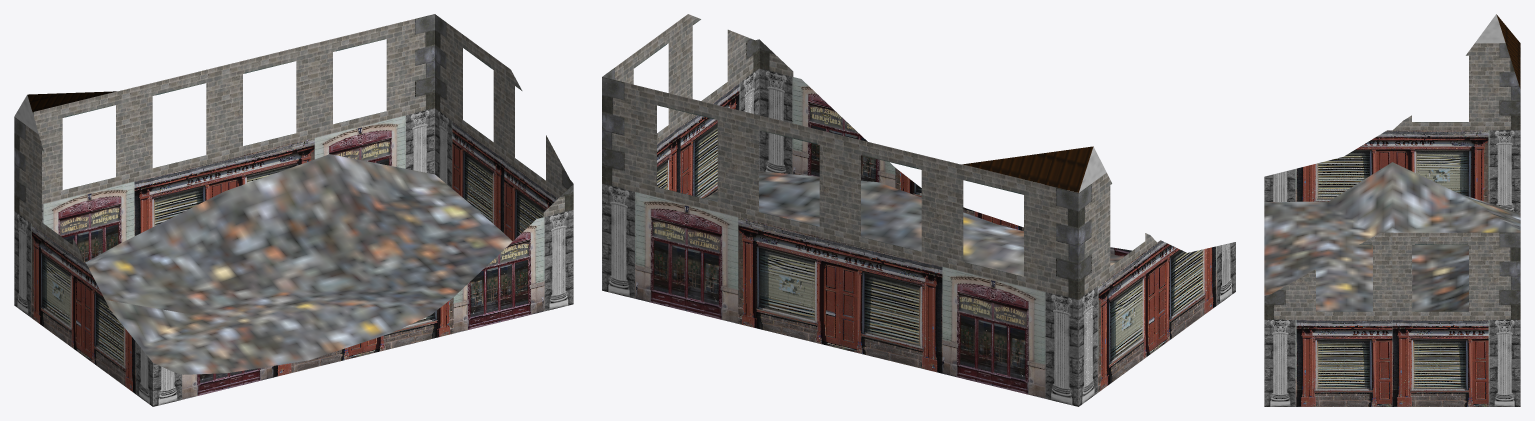
Rendered from House_013_destroyed_001.dae.
3 views of the same model, side by side, from view 1: azimuth 30°, elevation 25°; view 2: azimuth 150°, elevation 25°; view 3: azimuth 270°, elevation 25° (orthographic). The views are drawn at different scales.
Parts seen in each view (by area): view 1: House_013; view 2: House_013; view 3: House_013.
Part boxes in pixels (box(x1,y1,x2,y2)): House_013: box(14, 14, 573, 406); House_013: box(602, 14, 1235, 406); House_013: box(1264, 14, 1520, 406).
Bounding box in the file's own units: 112 × 64 × 56.07.
1 material, 1 textured.
